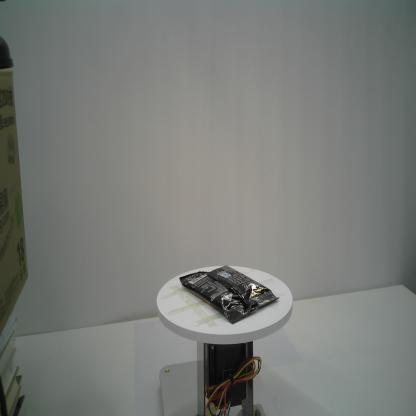Instant Drink: (180, 264, 280, 325)
